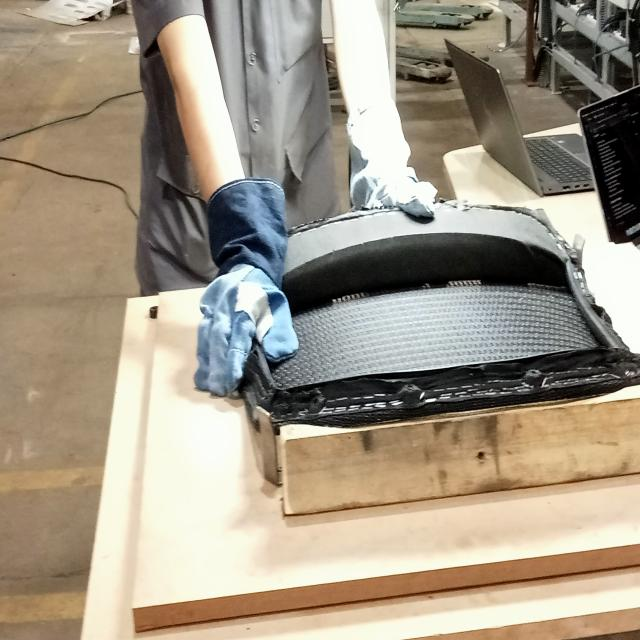Gloves-Detection: (197, 190, 291, 376), (348, 155, 435, 218)
